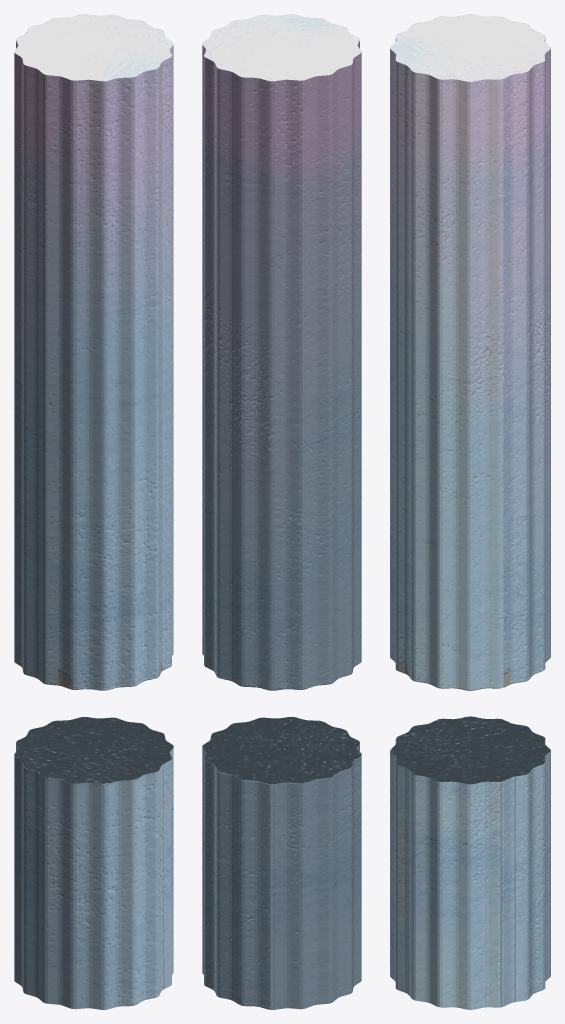
The model's file is Column.glb.
3 renders of one model, left to right at view 1: azimuth 30°, elevation 25°; view 2: azimuth 150°, elevation 25°; view 3: azimuth 270°, elevation 25°, orthographic.
Parts seen in each view (by area): view 1: 柱体.004, 柱体.003; view 2: 柱体.004, 柱体.003; view 3: 柱体.004, 柱体.003.
Part boxes in pixels (box(x1,y1,x2,y2)): 柱体.004: box(14, 14, 173, 690); 柱体.003: box(14, 716, 173, 1009); 柱体.004: box(202, 14, 361, 690); 柱体.003: box(202, 716, 361, 1009); 柱体.004: box(390, 14, 550, 690); 柱体.003: box(390, 716, 550, 1009).
Size of what is drawn, in the model's own units: 0.5525 by 3.52 by 0.5525.
1 material, 1 textured.
